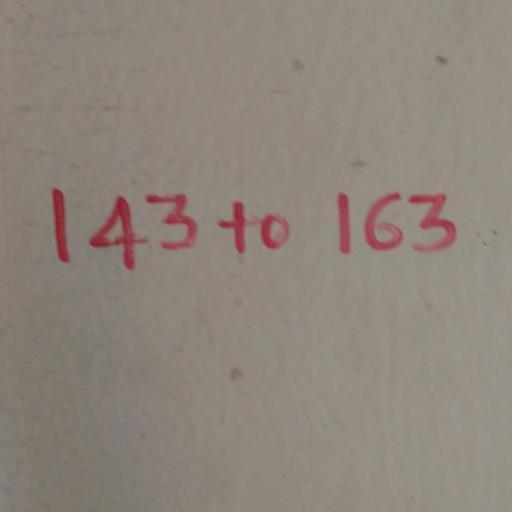stain: (46, 177, 464, 275)
